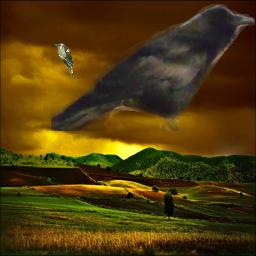Crow: (51, 4, 255, 131)
Cuckoo: (53, 43, 74, 78)
